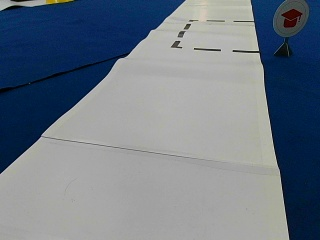school: (273, 1, 308, 36)
